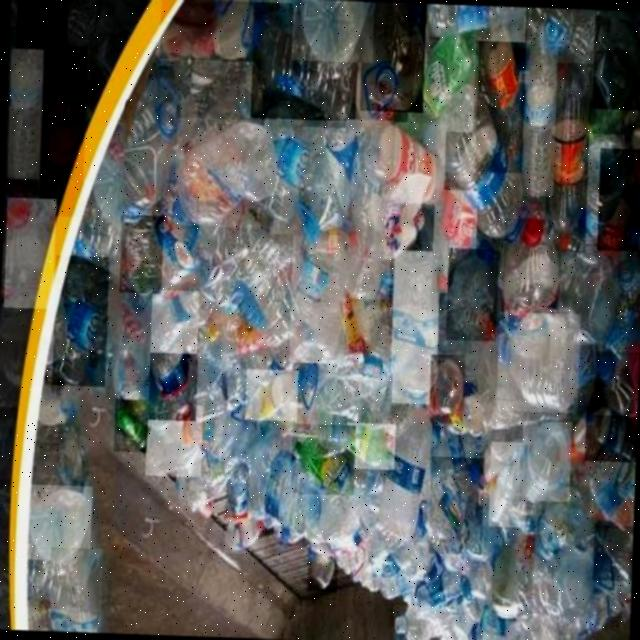bottle: (430, 99, 524, 249), (250, 2, 359, 122), (173, 116, 278, 228), (341, 118, 396, 300), (544, 62, 592, 252), (496, 311, 580, 413), (38, 45, 88, 216), (474, 27, 530, 173), (298, 126, 370, 238), (377, 404, 434, 542), (390, 250, 440, 404), (289, 234, 348, 364), (52, 254, 110, 386), (407, 23, 477, 132), (359, 2, 426, 112), (121, 98, 179, 224), (365, 120, 446, 204), (521, 21, 559, 196), (501, 218, 562, 322), (3, 197, 56, 309), (292, 369, 392, 428), (159, 0, 254, 61), (428, 454, 484, 554), (291, 0, 374, 63), (26, 482, 92, 560), (6, 48, 44, 179), (431, 189, 478, 293), (446, 248, 498, 342), (592, 9, 640, 110), (148, 327, 198, 421), (290, 423, 355, 495), (48, 546, 103, 630), (269, 128, 312, 235), (596, 148, 640, 251), (585, 133, 625, 244), (144, 403, 202, 477), (520, 420, 572, 502), (534, 482, 586, 556), (426, 4, 526, 42), (118, 214, 164, 293), (488, 441, 530, 527), (14, 0, 68, 65), (490, 544, 534, 622), (150, 289, 199, 354), (593, 351, 639, 416), (584, 406, 637, 462), (244, 368, 298, 422), (410, 565, 462, 615), (428, 354, 464, 424), (344, 422, 396, 470), (592, 525, 633, 581), (370, 547, 410, 601), (223, 509, 266, 554), (113, 398, 148, 452), (279, 486, 306, 546), (306, 542, 338, 592), (393, 605, 436, 640), (225, 462, 249, 518)
